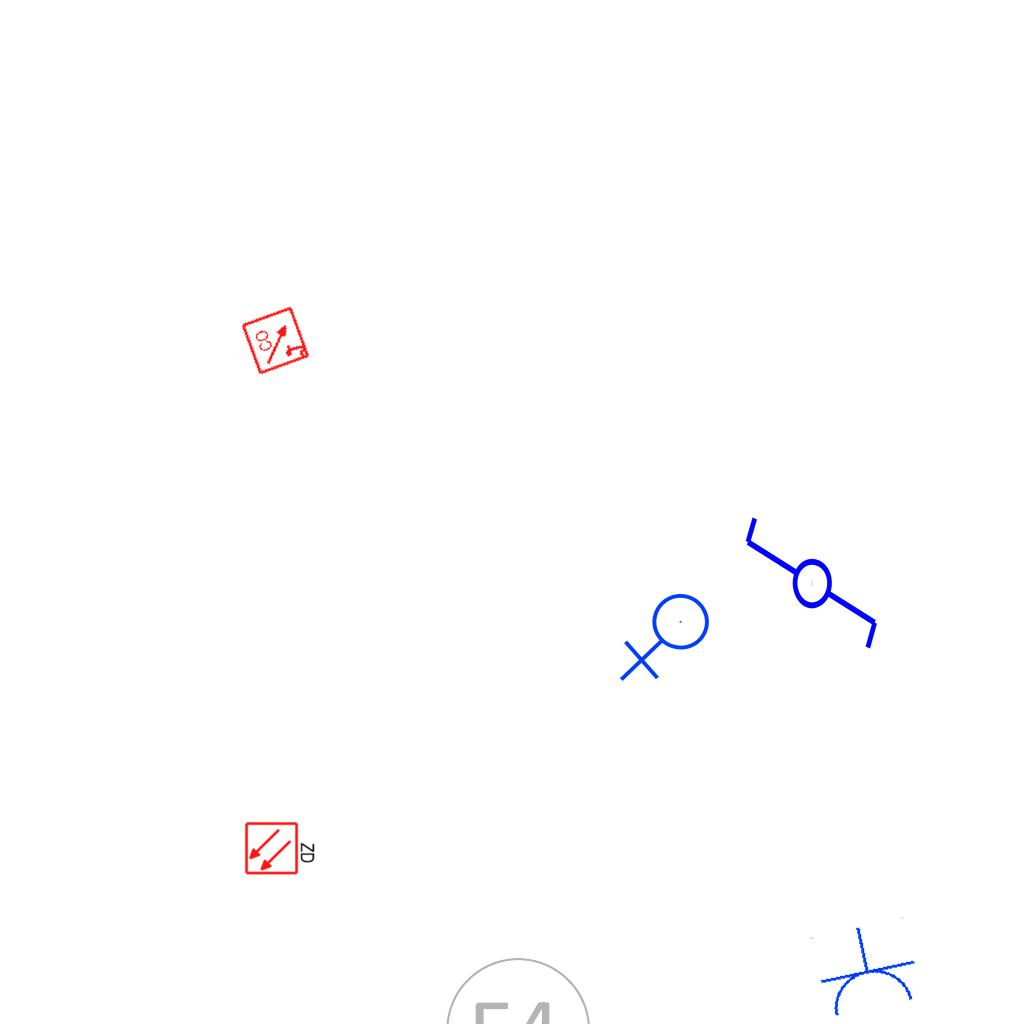Elektroanschluss_allgemein_230V_Geraeteanschlussdose_230V: (619, 592, 718, 686)
ROA_Rauchmelder_optisch_mit_Signalgeber_(Sockelsirene): (240, 304, 312, 376)
Schukosteckdose_einfach: (808, 916, 924, 1023)
Wechselschalter: (738, 513, 882, 670)
ZD_Melder_in_Zwischendecke_mit_Revisionsoeffnung_mind_40_x_40_cm: (244, 819, 318, 876)
